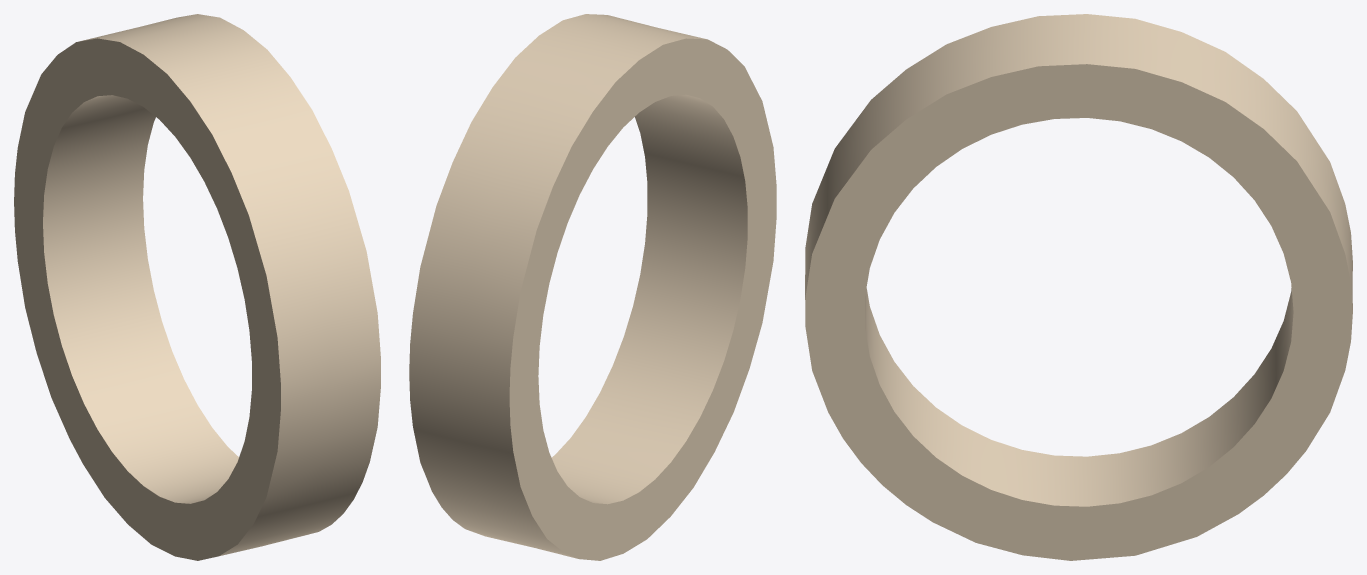
The model's file is carousel.dae.
The picture shows the model from 3 angles, left to right: view 1: azimuth 30°, elevation 25°; view 2: azimuth 150°, elevation 25°; view 3: azimuth 270°, elevation 25°; orthographic projection. The views are drawn at different scales.
Visible parts, largest first — view 1: Carousel; view 2: Carousel; view 3: Carousel.
Boxes of the visible parts, <box> form: Carousel: <box>14,14,380,560</box>; Carousel: <box>409,14,776,560</box>; Carousel: <box>805,14,1352,560</box>.
Bounding box in the file's own units: 0.4064 × 1.88 × 1.88.
